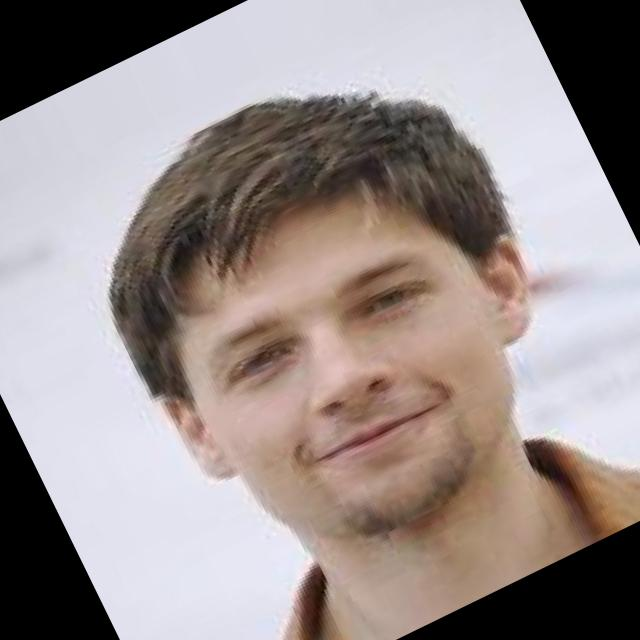bareface: (140, 144, 564, 586)
